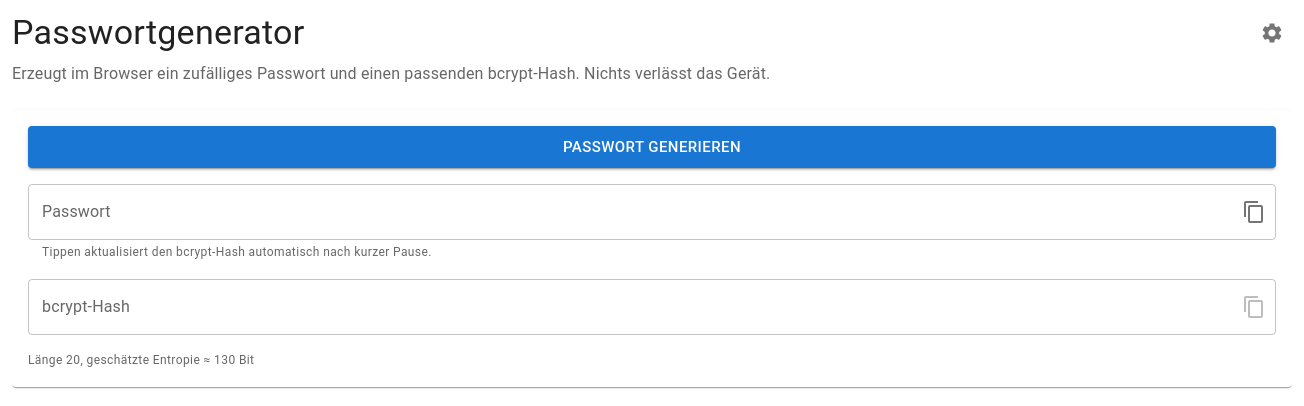
Test case: PasswordPage › fills the password and hash fields when Generate is clicked
What coordinates should you click on to do the following:
click the button "Passwort generieren"
I would click on:
 (652, 147)
Its box is [28,126,1276,168].
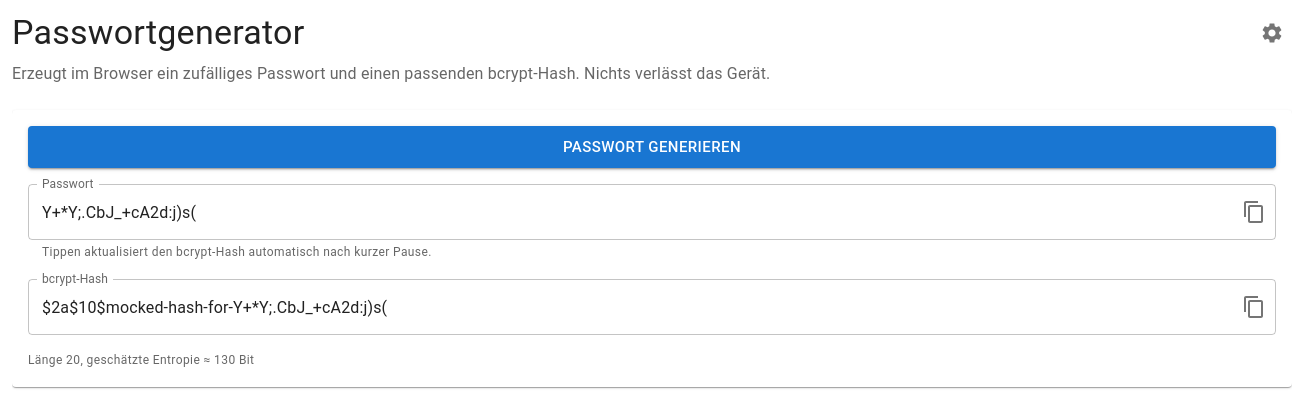
Result: the field labelled "Passwort" is not empty at [28,184,1226,240]
